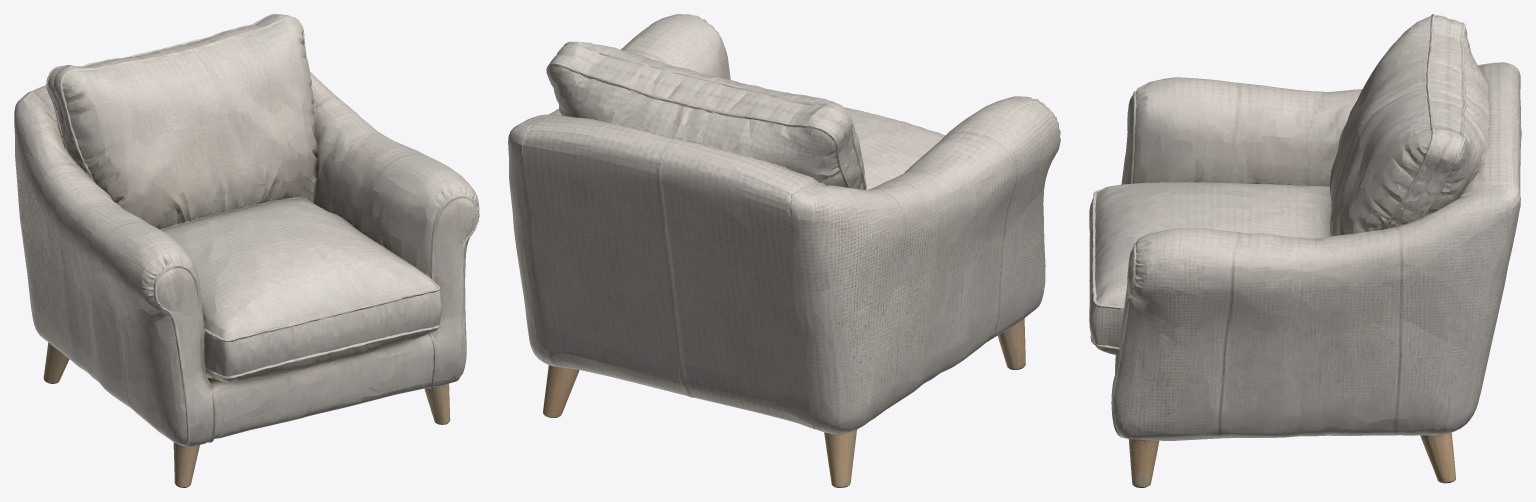
3 views of the same model, side by side, from view 1: azimuth 30°, elevation 25°; view 2: azimuth 150°, elevation 25°; view 3: azimuth 270°, elevation 25° (orthographic). The views are drawn at different scales.
Parts seen in each view (by area): view 1: Mesh_0; view 2: Mesh_0; view 3: Mesh_0.
Part boxes in pixels (left/top/right/bottom): Mesh_0: left=14, top=14, right=479, bottom=487; Mesh_0: left=508, top=14, right=1060, bottom=487; Mesh_0: left=1089, top=14, right=1521, bottom=487.
Bounding box in the file's own units: 0.8545 × 0.7455 × 0.85.
1 material, 1 textured.
